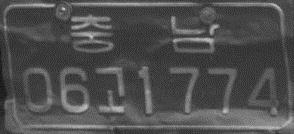0: (21, 66, 53, 113)
1: (132, 66, 162, 115)
4: (246, 66, 281, 116)
6: (58, 66, 91, 113)
7: (169, 66, 200, 114), (208, 66, 238, 115)
고: (94, 65, 126, 115)
충남_D: (70, 13, 220, 53)
